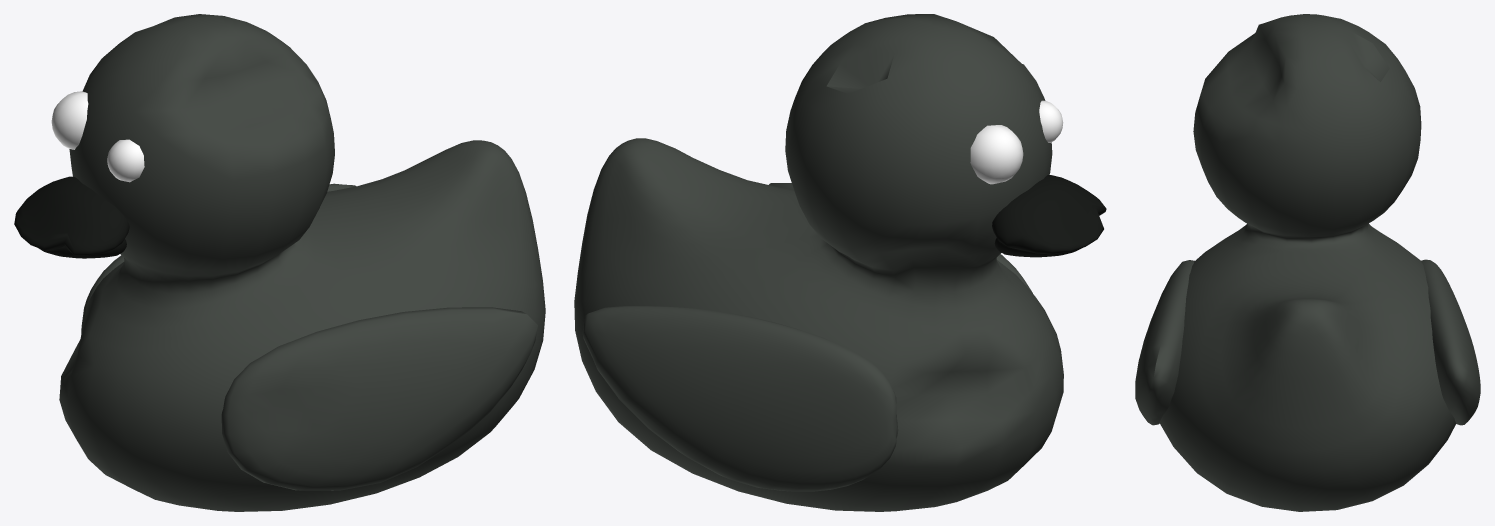
The model's file is heavy-zombie-duck.fbx.
3 renders of one model, left to right at view 1: azimuth 30°, elevation 25°; view 2: azimuth 150°, elevation 25°; view 3: azimuth 270°, elevation 25°, orthographic. The views are drawn at different scales.
Parts seen in each view (by area): view 1: Retopo_Duck; view 2: Retopo_Duck; view 3: Retopo_Duck.
Part boxes in pixels (<box>): Retopo_Duck: <box>14,14,545,511</box>; Retopo_Duck: <box>574,14,1106,511</box>; Retopo_Duck: <box>1135,14,1480,511</box>.
Bounding box in the file's own units: 177 × 163 × 124.
